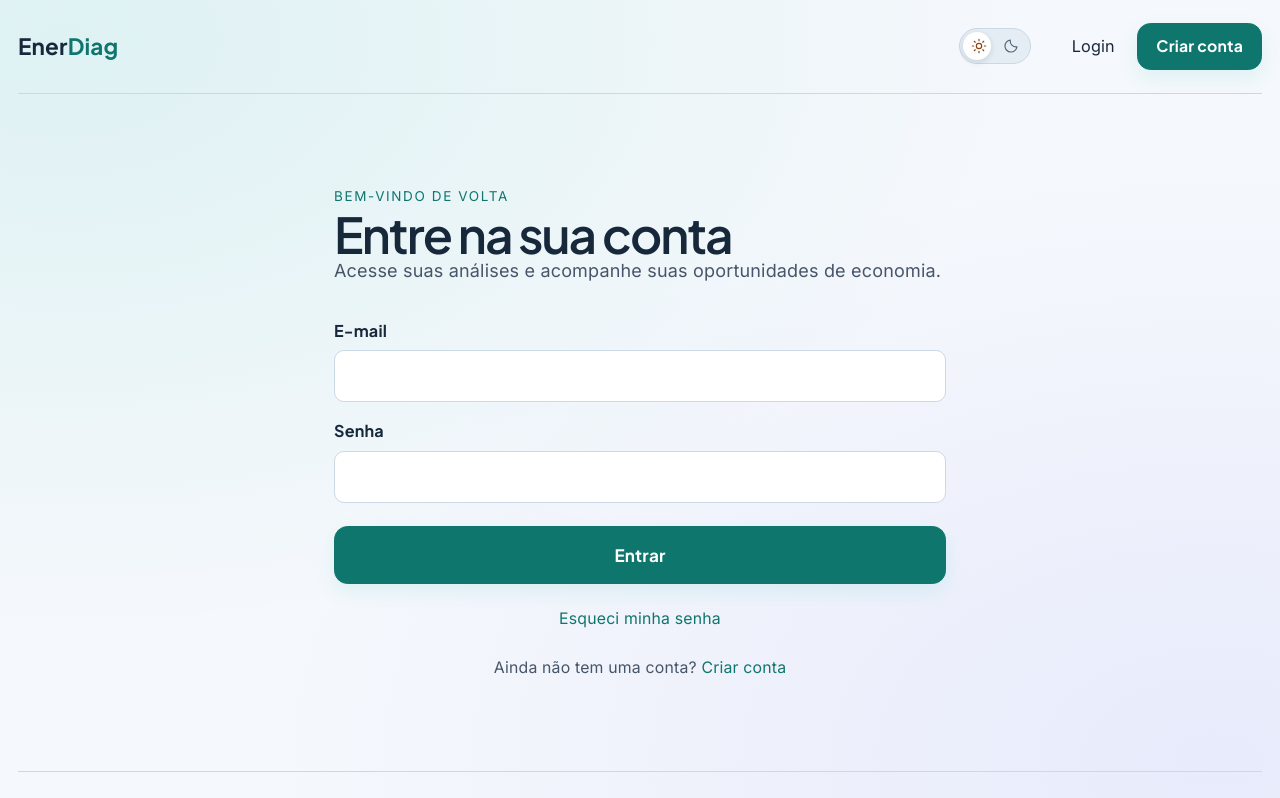
it: login and password recovery › shows invalid credentials and routes unverified accounts to code verification
Type "ana@example.com" into the field labelled "E-mail" at (640, 376), box [334,350,946,402]
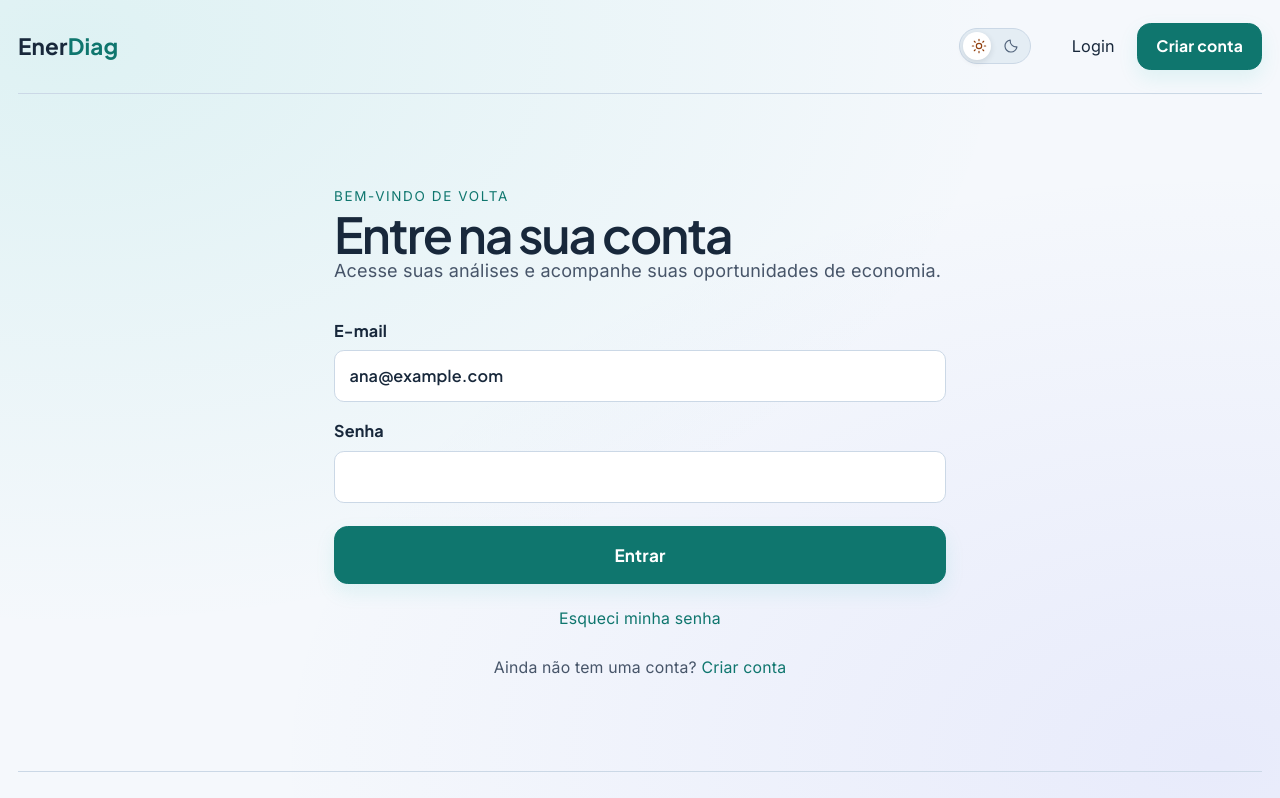
Type "SenhaValida123" into the password field labelled "Senha" at (640, 477), box [334,451,946,503]
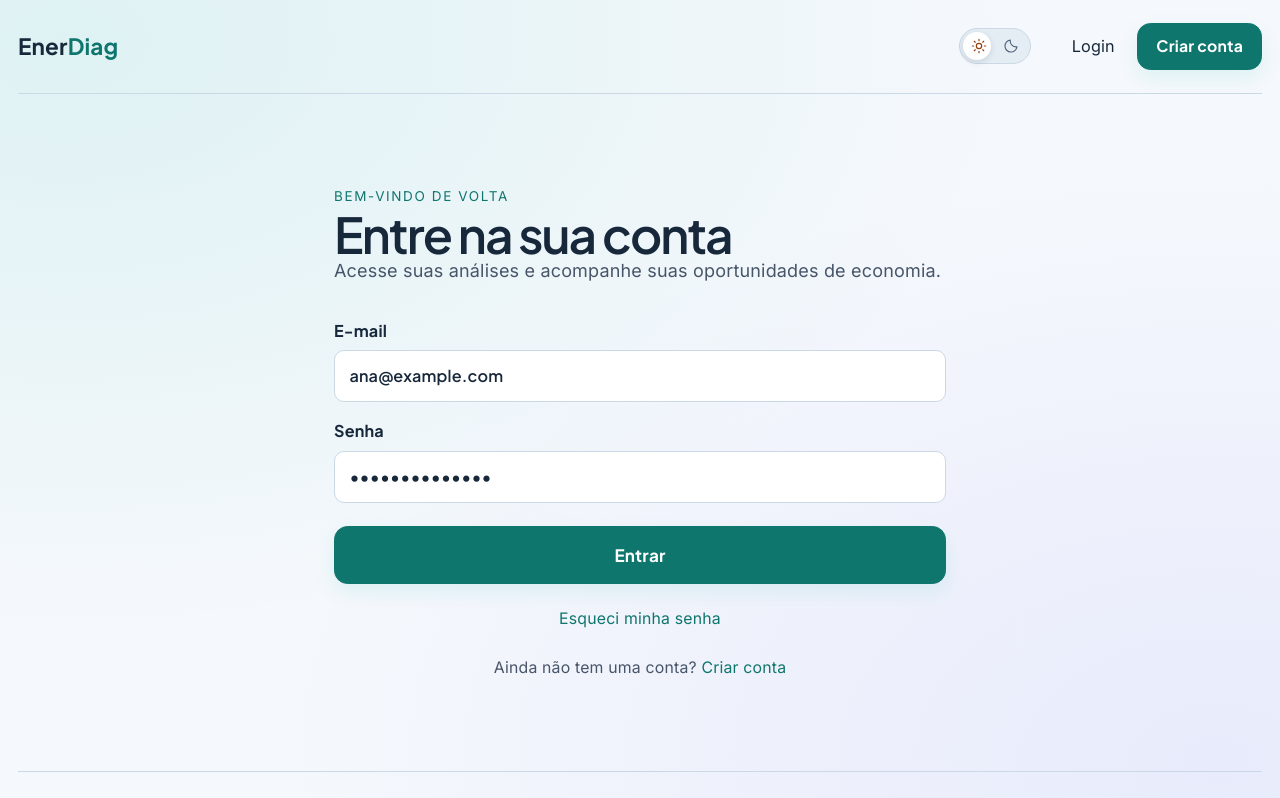
Click the button "Entrar" at (640, 555), box [334,526,946,584]
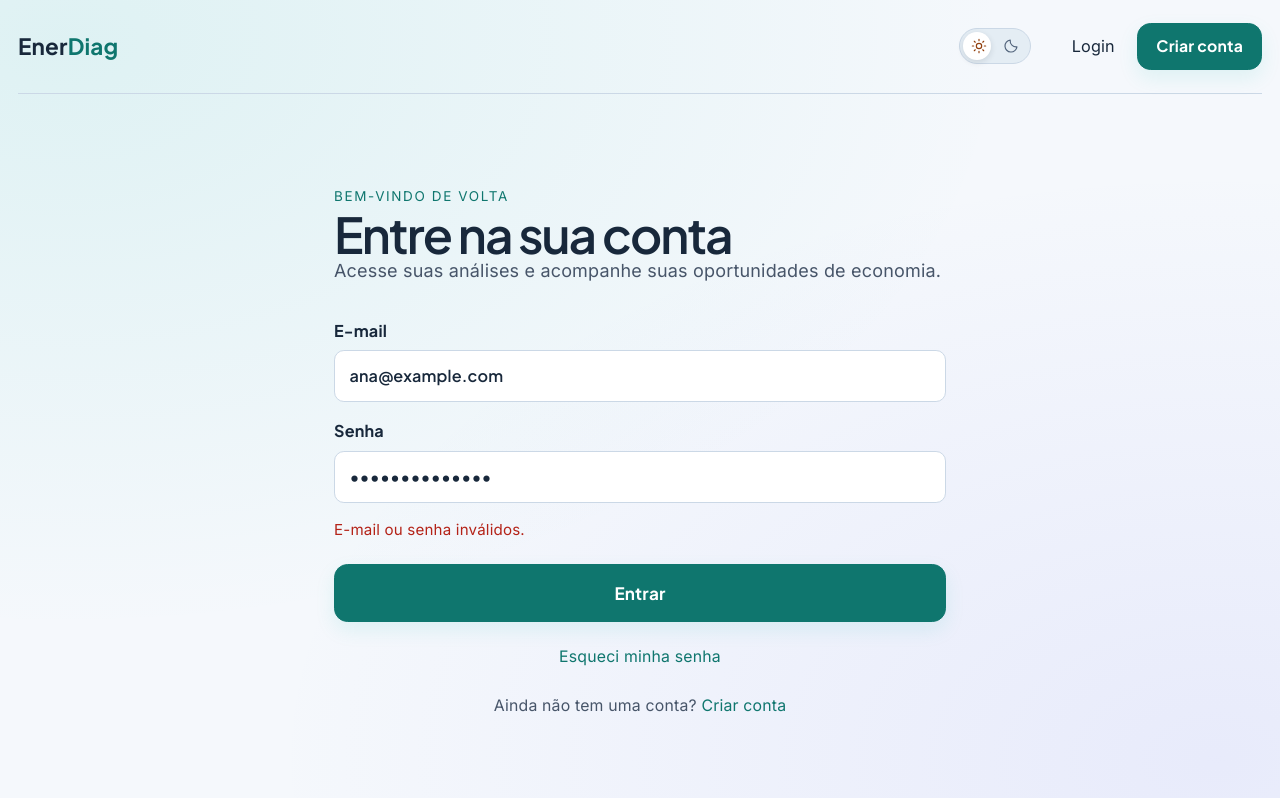
Now the text "E-mail ou senha inválidos." is shown, box [334,520,525,539]
Click the button "Entrar" at (640, 593), box [334,564,946,622]
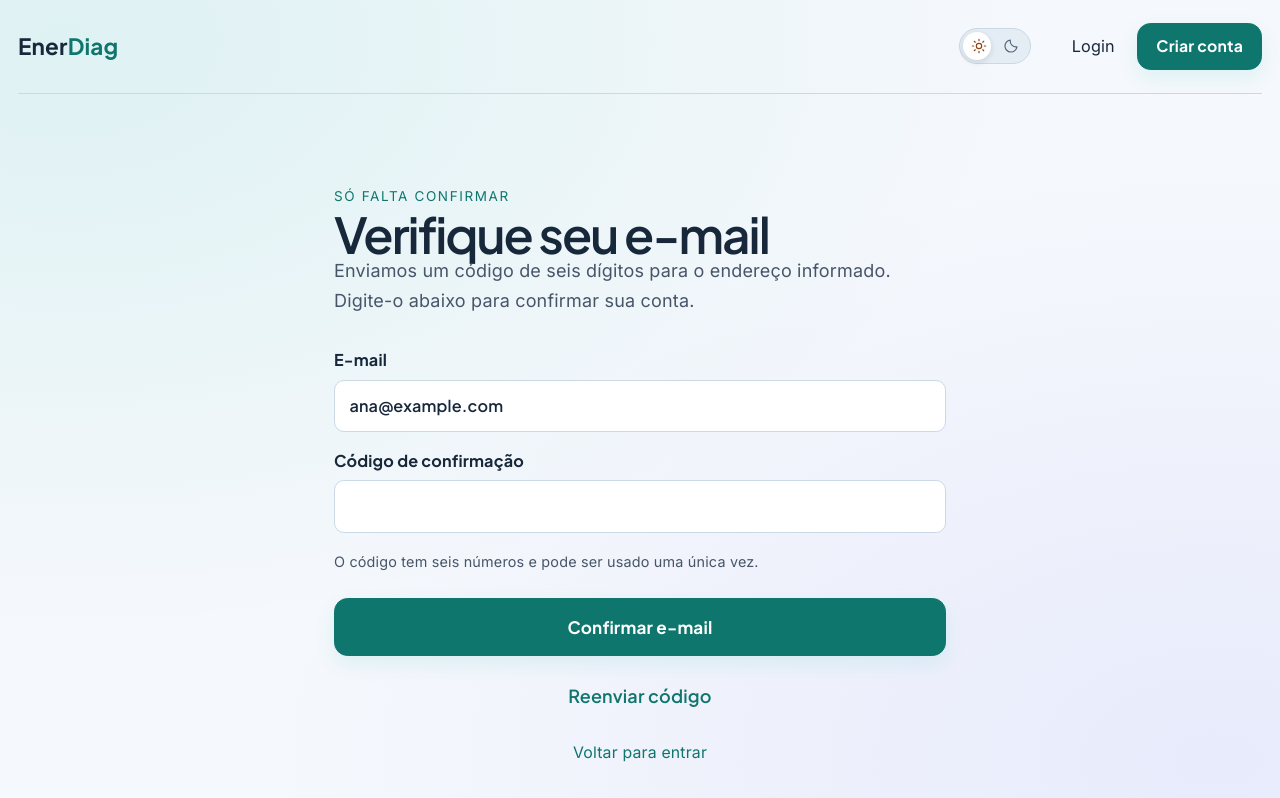
Now the heading "Verifique seu e-mail" is shown, box [334,203,769,265]
